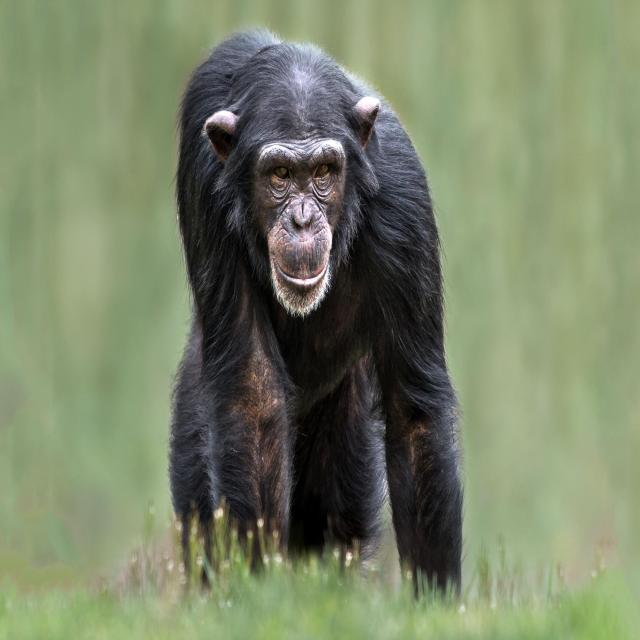Chimpanzee: (170, 28, 458, 595)
